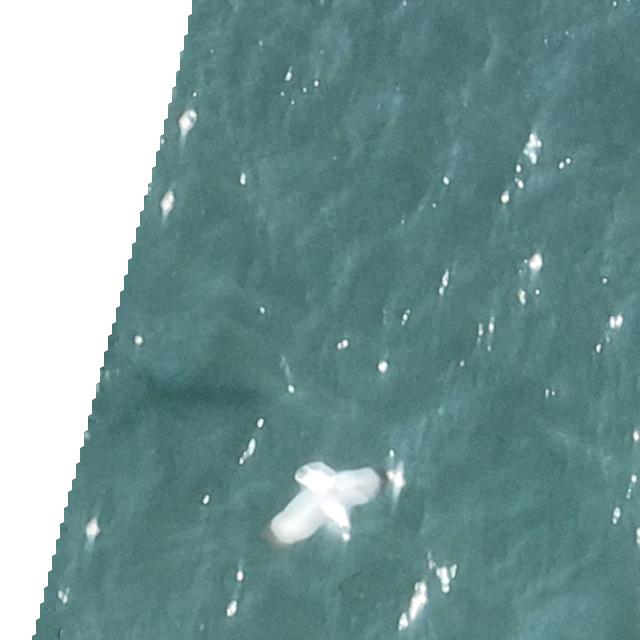F: (270, 459, 380, 549)
